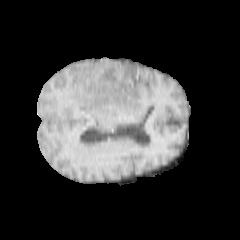glioma: (66, 62, 154, 118)
